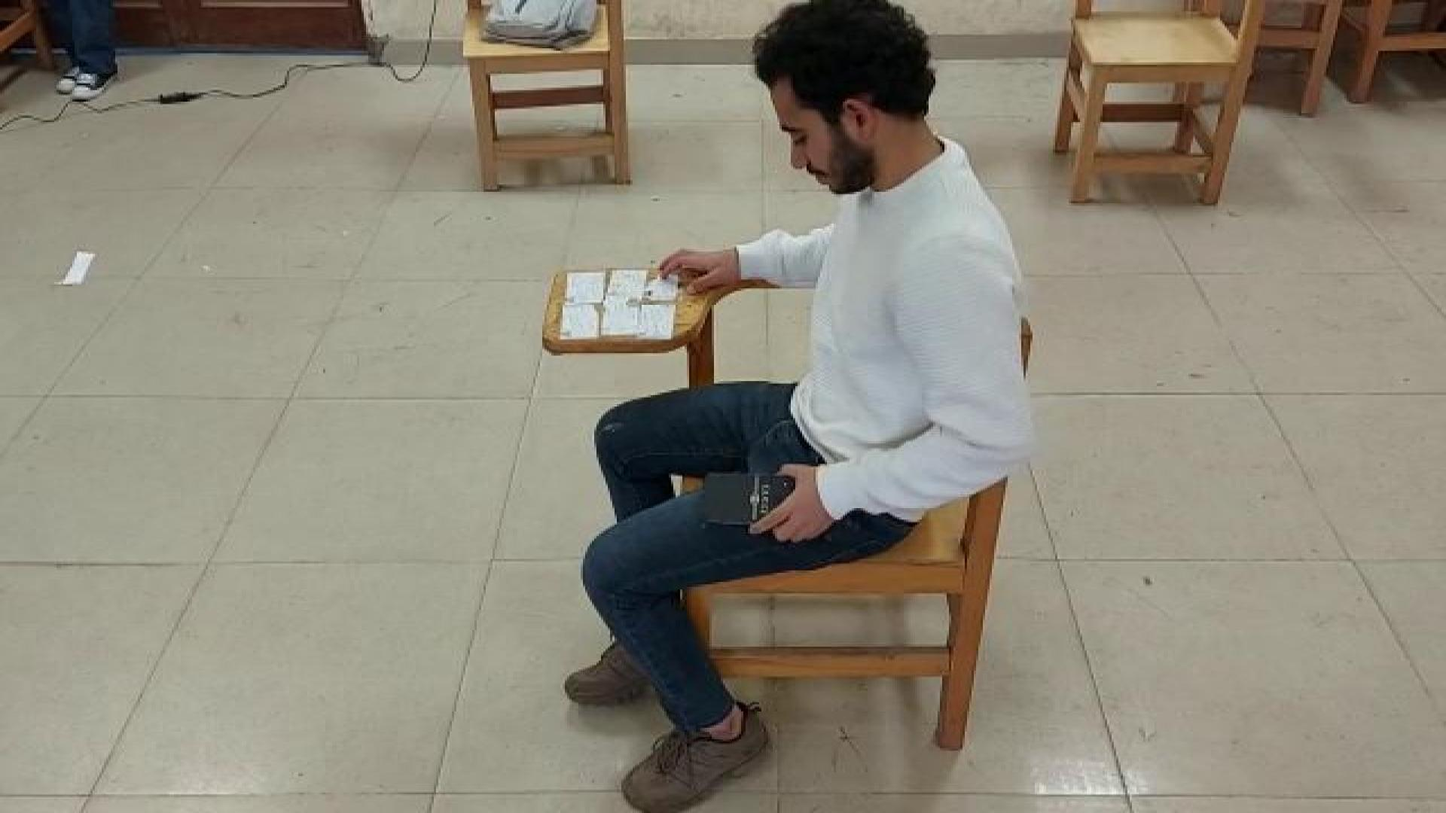phone: (696, 466, 811, 531)
